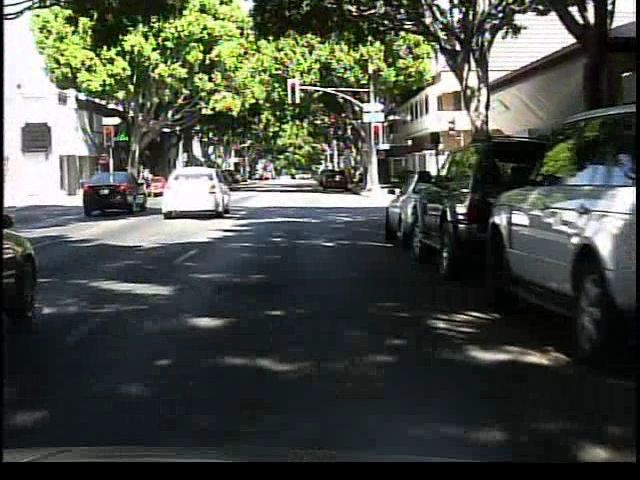person: (138, 162, 159, 197)
